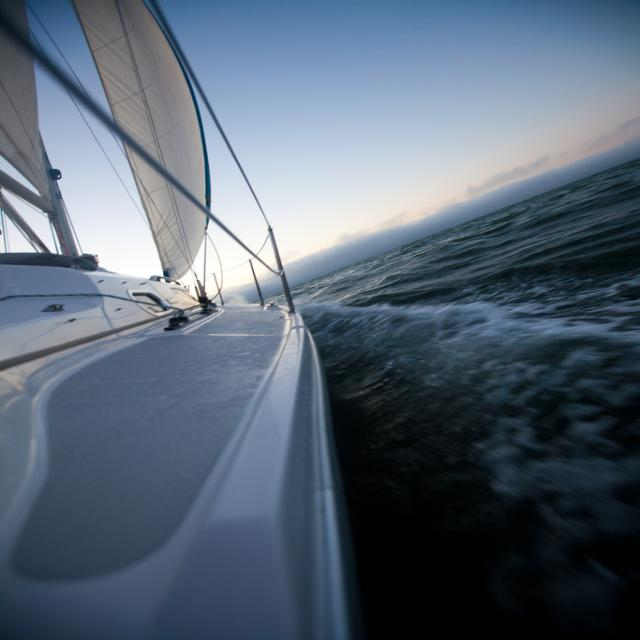Boat: (4, 0, 375, 622)
